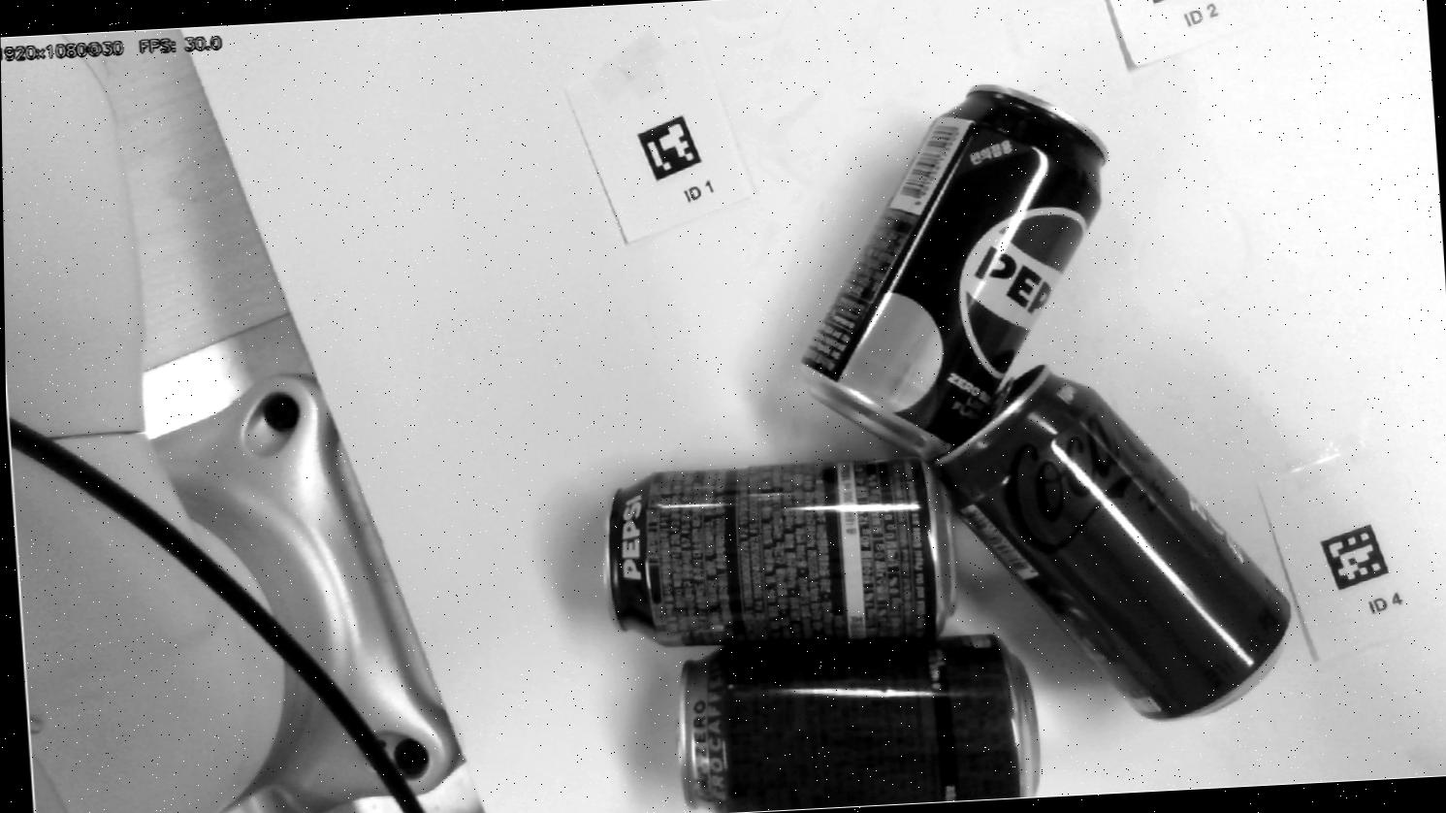can_coke_decaf: (678, 636, 1038, 813)
can_coke_zero: (937, 366, 1289, 719)
can_pepsi: (604, 458, 953, 645)
can_pepsi_zero: (801, 85, 1105, 458)
